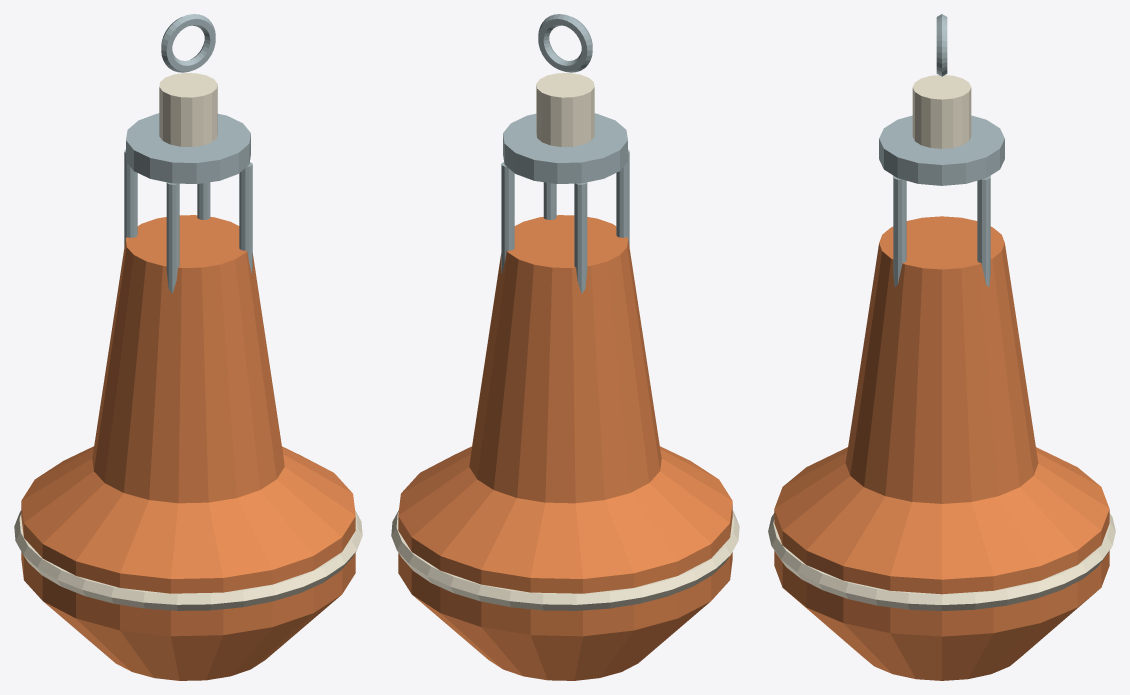
File: harbor-and-tackle-channel-buoy-d1782707__19563.glb
3 renders of one model, left to right at view 1: azimuth 30°, elevation 25°; view 2: azimuth 150°, elevation 25°; view 3: azimuth 270°, elevation 25°, orthographic.
Visible parts, largest first — view 1: orange, metal, ivory; view 2: orange, metal, ivory; view 3: orange, ivory, metal.
Part boxes in pixels (x1,y1,x2,y2): orange: (21, 215, 355, 680); metal: (124, 14, 252, 293); ivory: (14, 73, 362, 610); orange: (398, 215, 732, 680); metal: (501, 14, 629, 293); ivory: (391, 73, 739, 610); orange: (774, 216, 1109, 680); ivory: (768, 75, 1115, 610); metal: (879, 14, 1004, 287).
Size of the model in its own units: 0.83 by 1.7 by 0.83.
